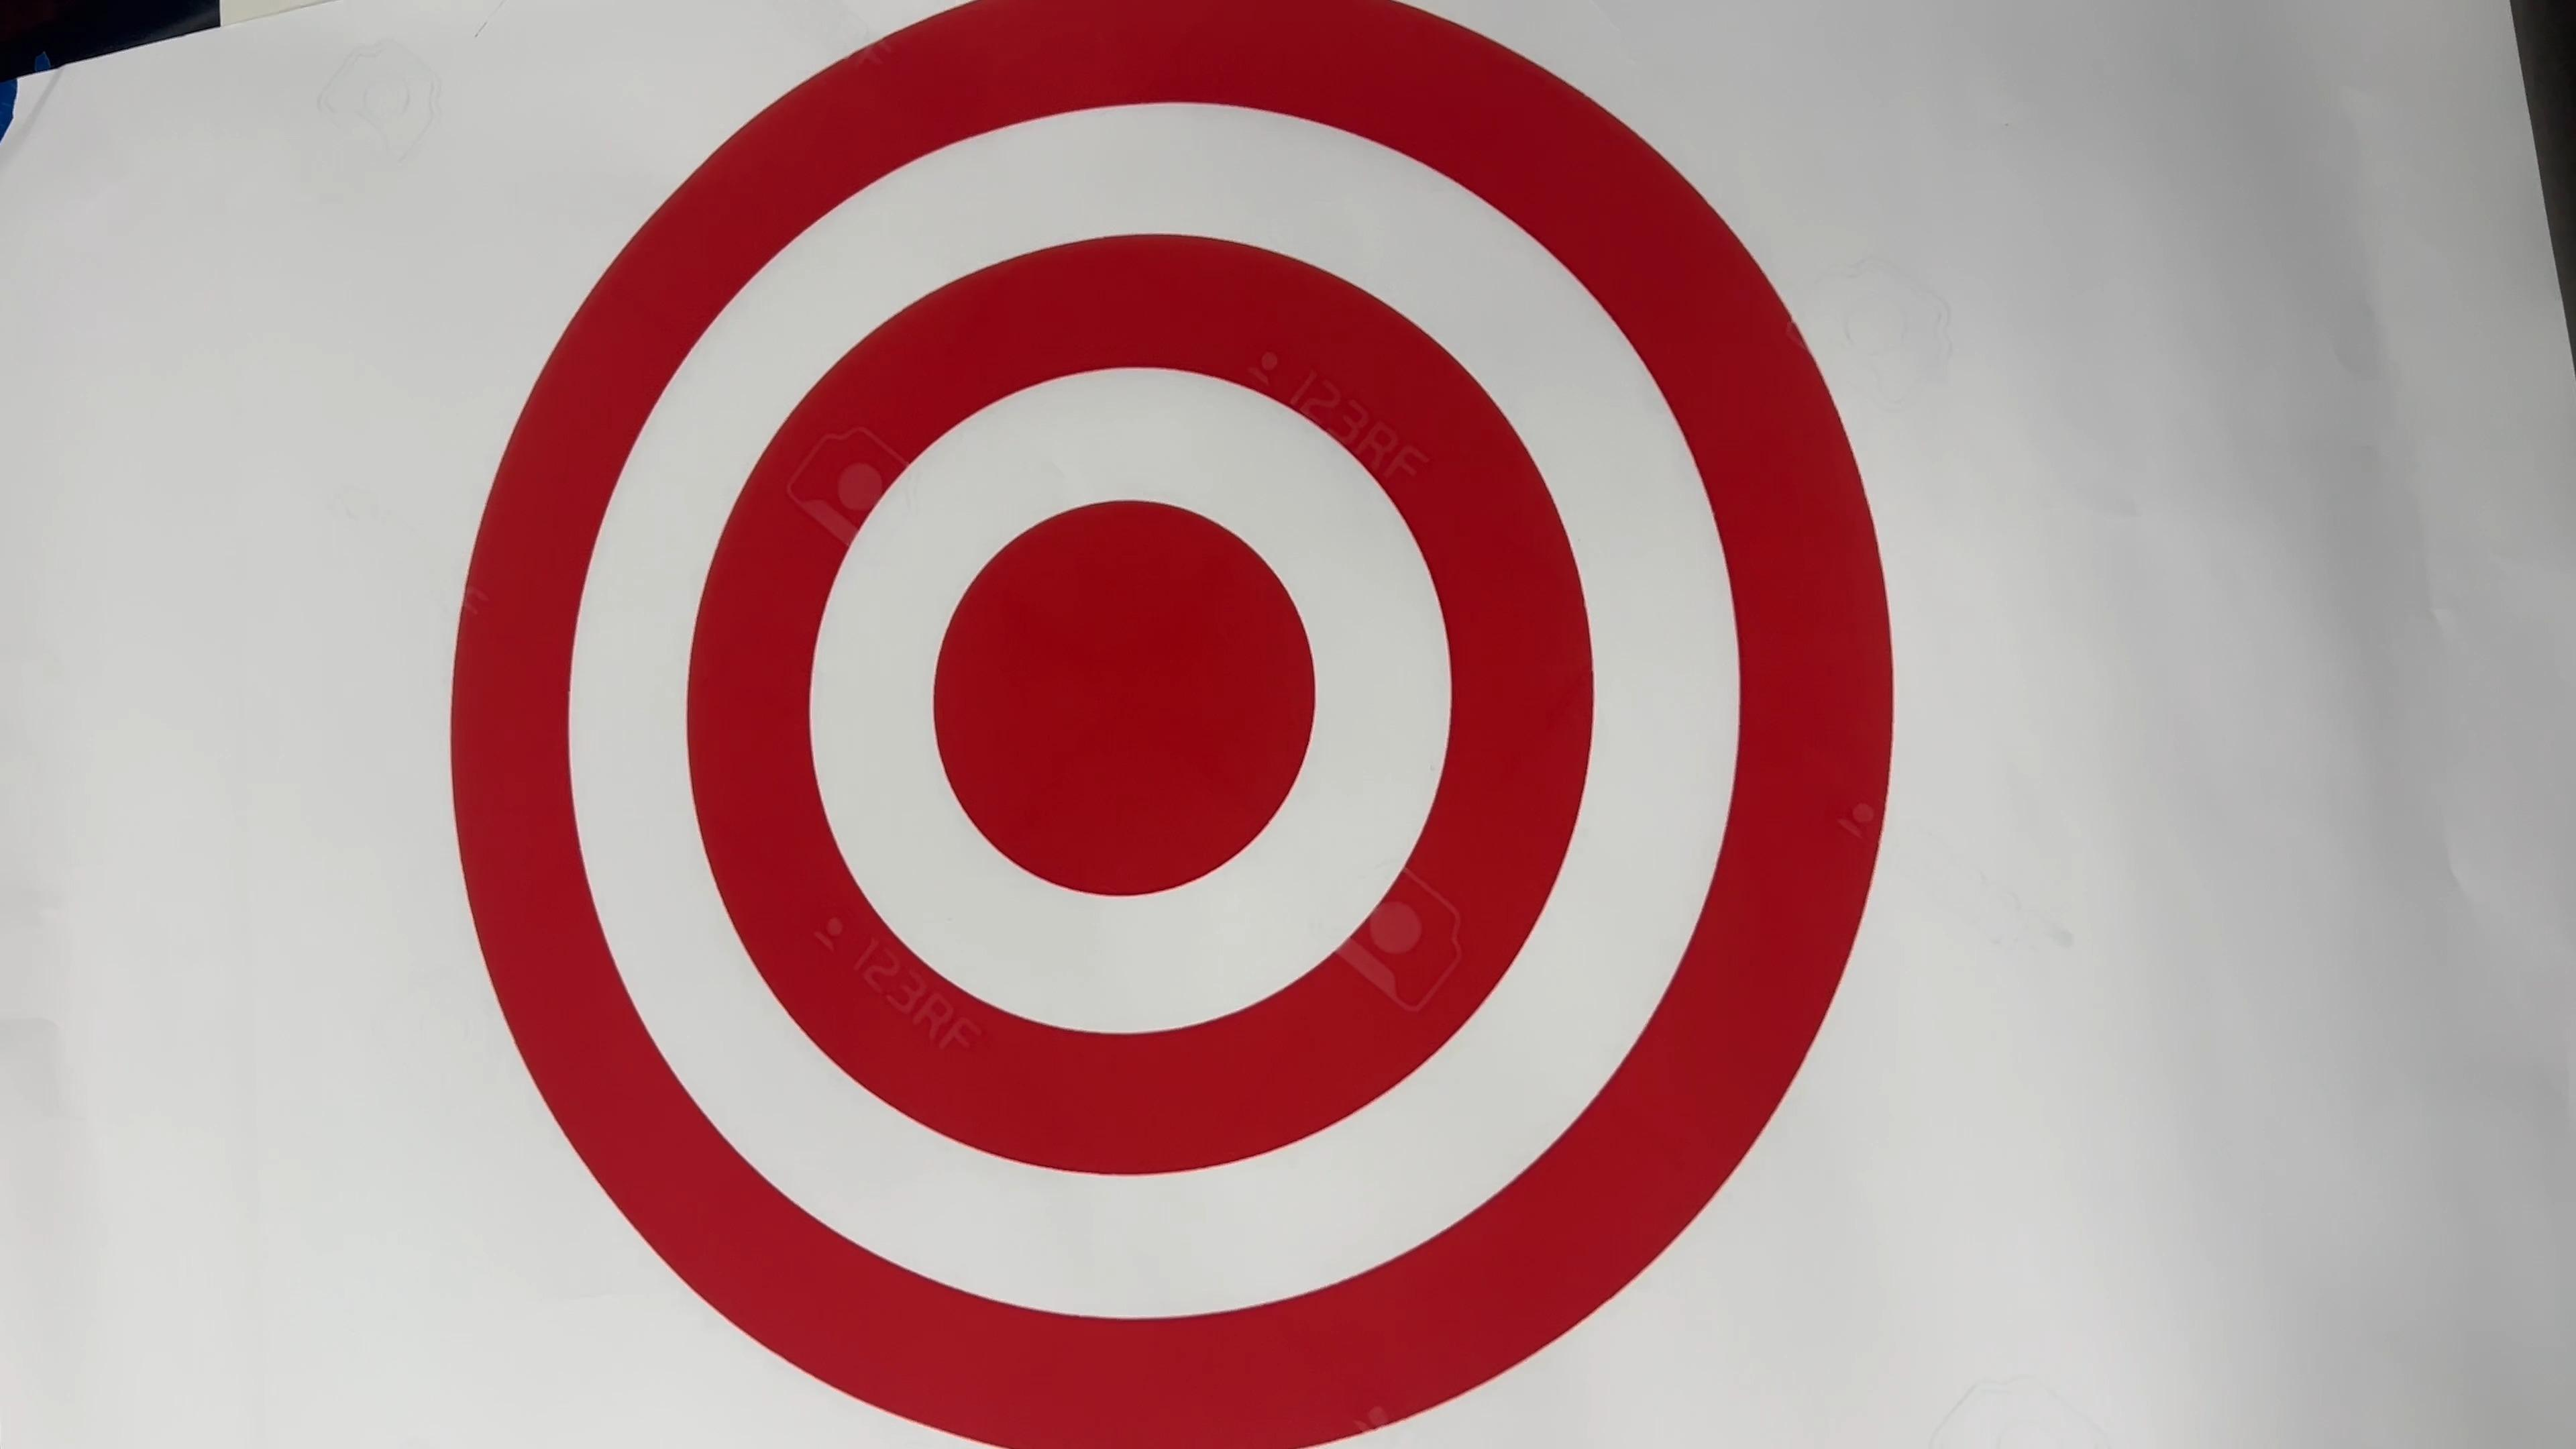target_red: (418, 0, 1948, 1449)
